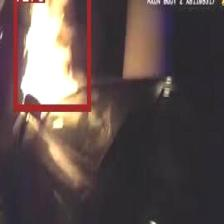fire: (12, 0, 90, 110)
